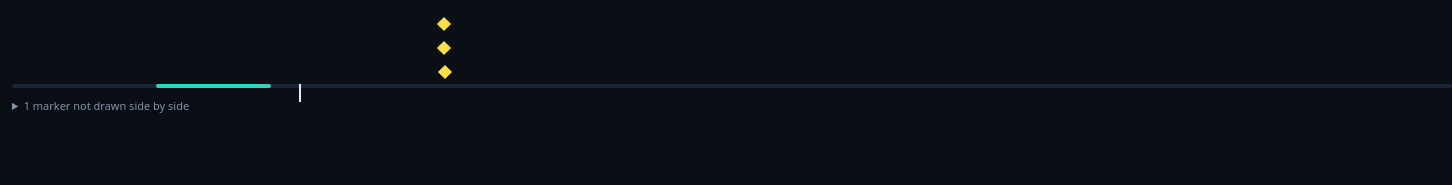
Test case: dense markers stay usable › never places a marker on a row where its target would still collide
This screenshot has width=1452, height=185.
Click the heading "1 marker not drawn side by side": (106, 106) [24,98,189,113]
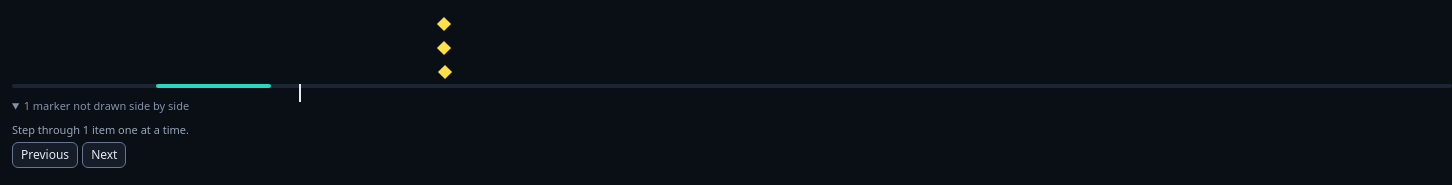
Click the button "Next": (104, 155) [82,142,126,168]
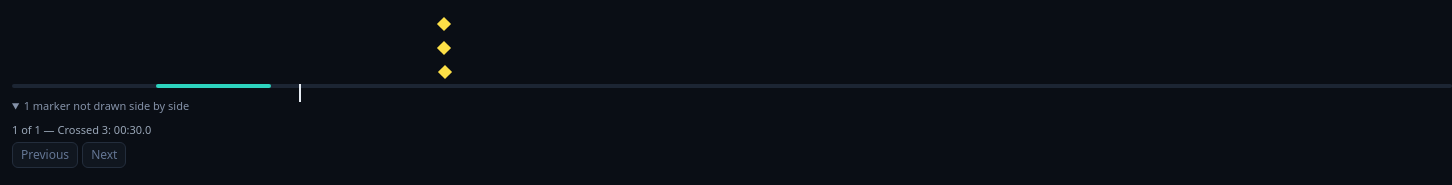
Expected: the message "1 of 1 — Crossed 3: 00:30.0" is shown, [12,122,151,137]
